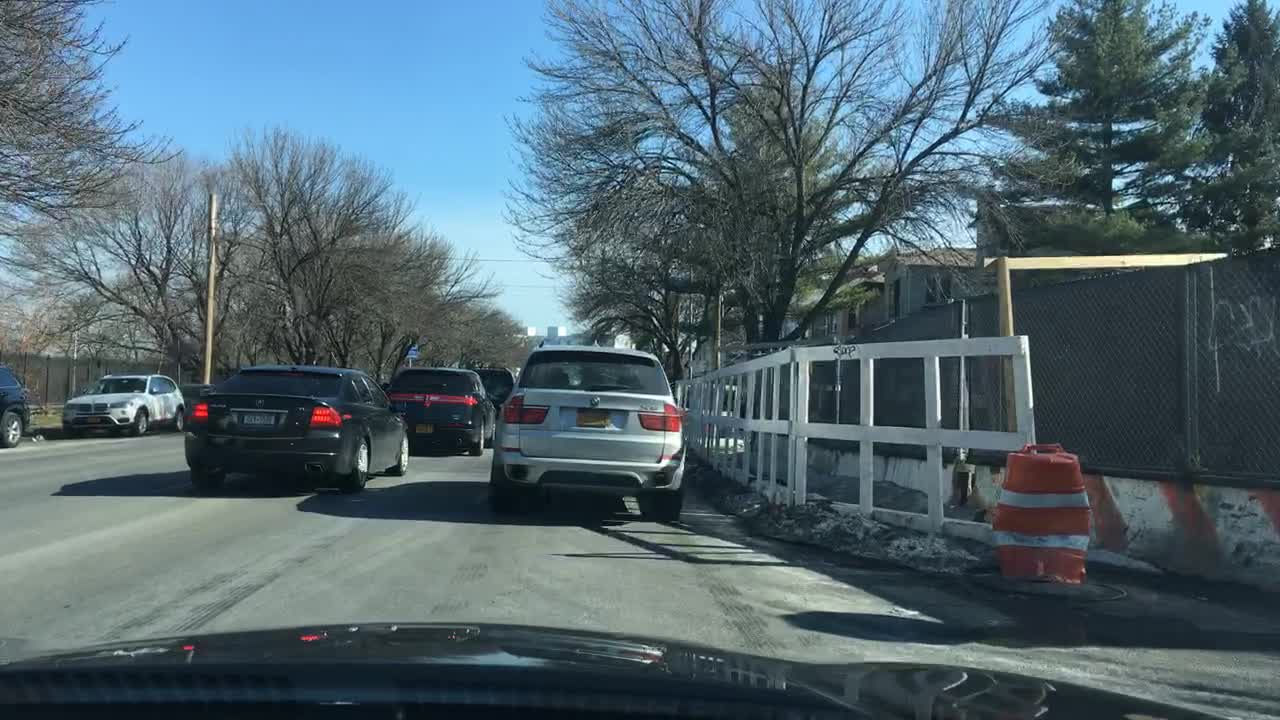car: (487, 338, 685, 517), (180, 360, 407, 489), (380, 363, 496, 451), (61, 373, 188, 432), (0, 366, 29, 448), (462, 360, 512, 398), (178, 382, 214, 421)
